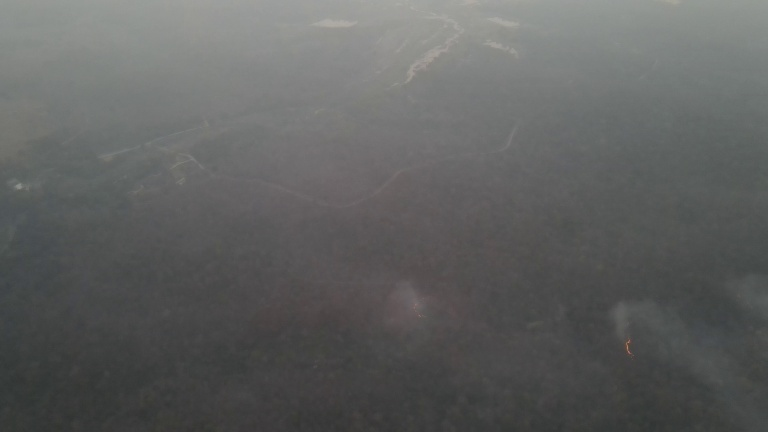fire: (621, 335, 637, 361), (408, 300, 423, 321)
smoke: (603, 263, 768, 432), (378, 272, 443, 352)
